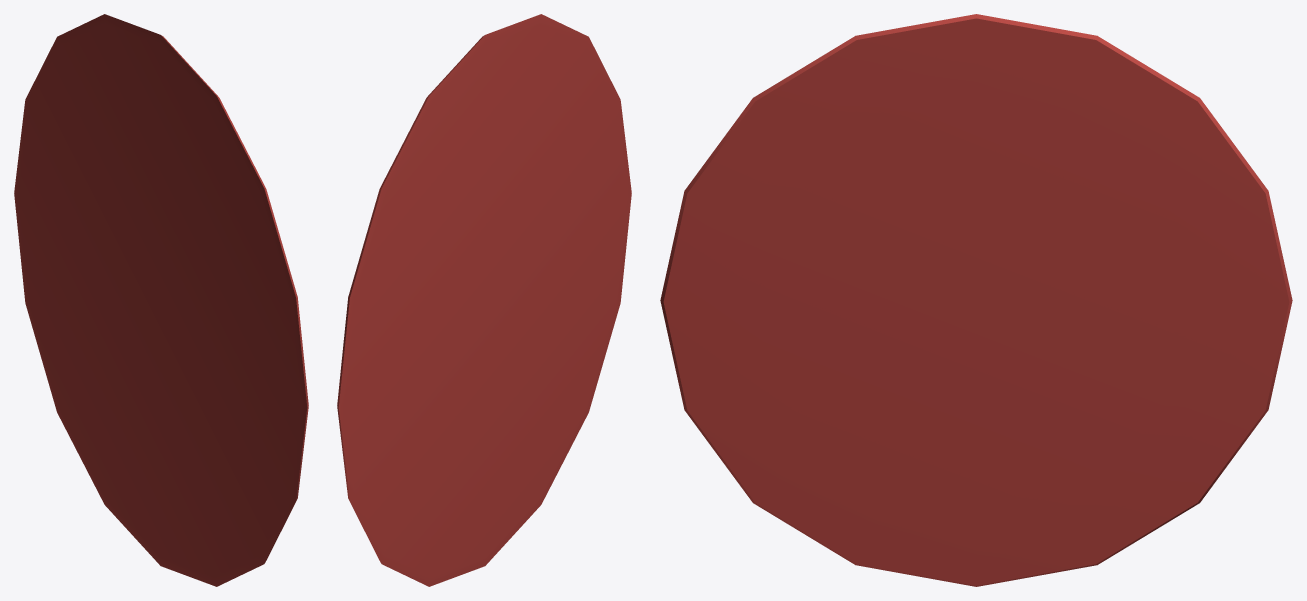
Rendered from round_lod1.glb.
The picture shows the model from 3 angles, left to right: view 1: azimuth 30°, elevation 25°; view 2: azimuth 150°, elevation 25°; view 3: azimuth 270°, elevation 25°; orthographic projection. The views are drawn at different scales.
Parts seen in each view (by area): view 1: round_lod1; view 2: round_lod1; view 3: round_lod1.
Part boxes in pixels (x1,y1,x2,y2): round_lod1: [14, 14, 308, 586]; round_lod1: [337, 14, 631, 586]; round_lod1: [660, 14, 1292, 586].
Bounding box in the file's own units: 0.024 × 2 × 2.
